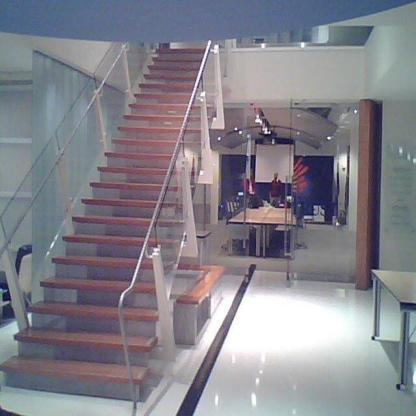stair: (24, 36, 209, 399)
